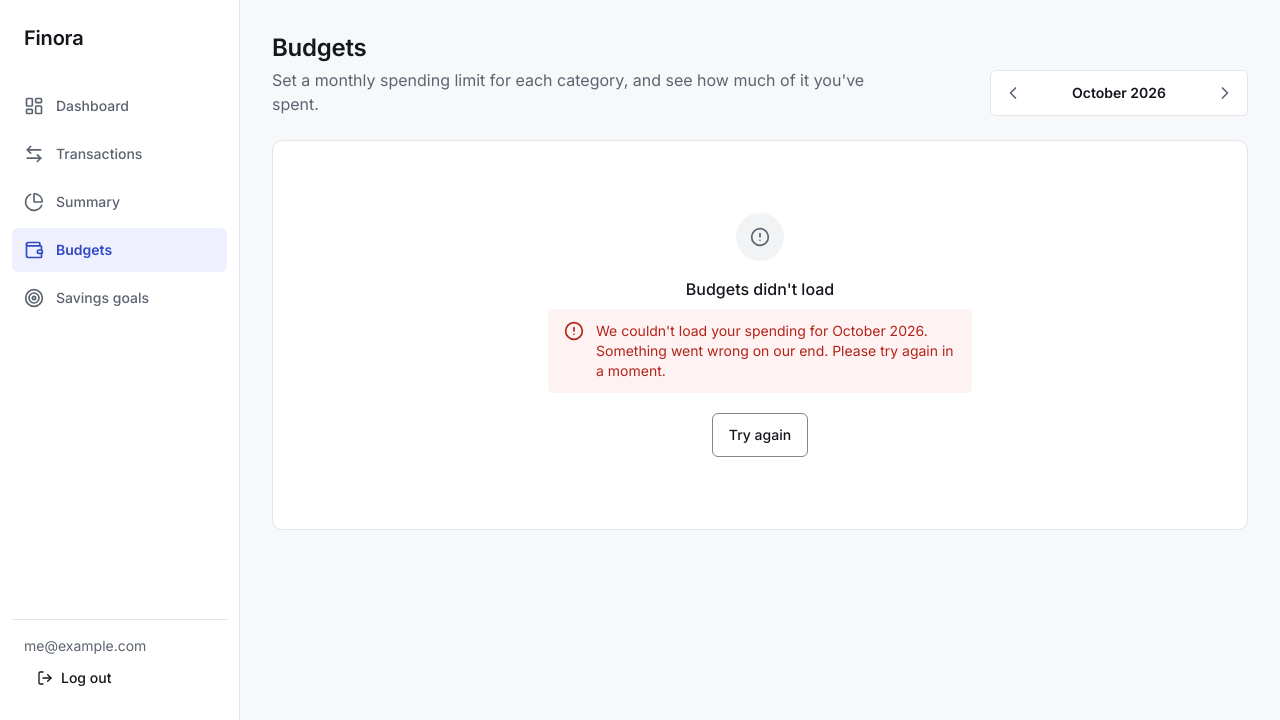
errors › shows an error with Try again when the figures do not load, and Try again loads them
The image size is (1280, 720).
Expected: the text "We couldn't load your spending for October 2026." is shown, [596,322,954,379]
Step 1. Click the button "Try again" → (760, 435), box [712,413,808,457]
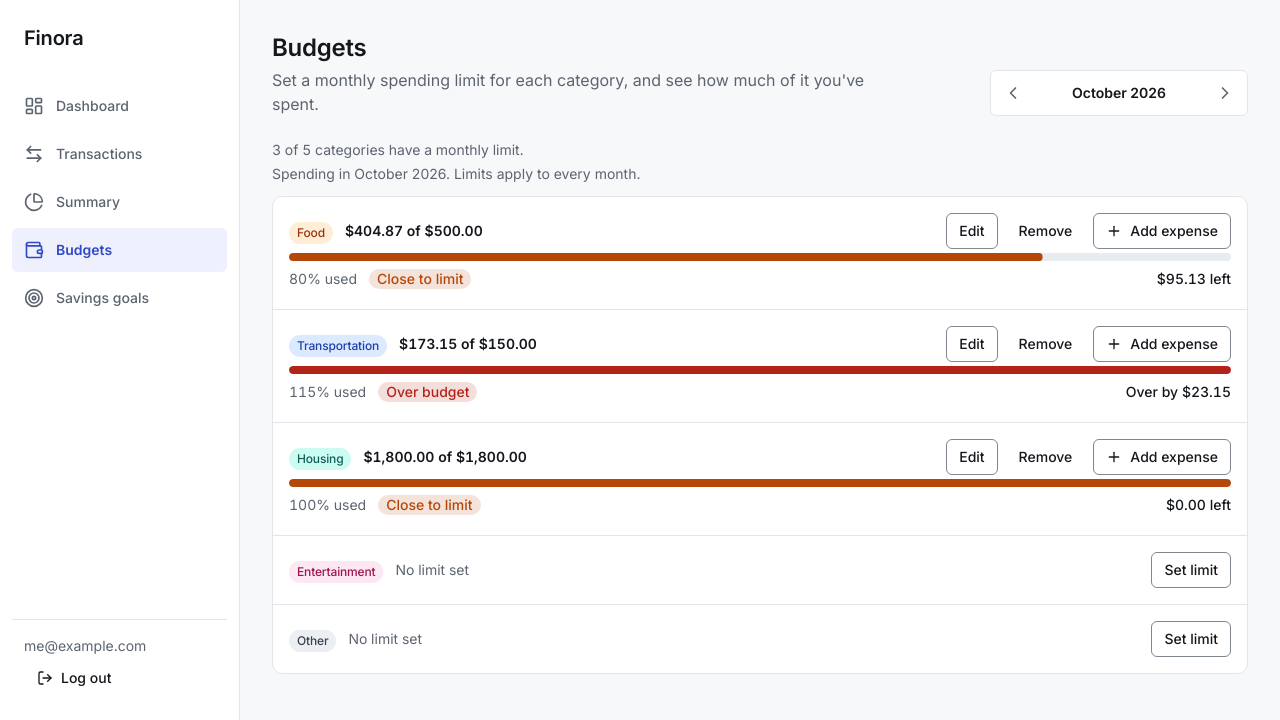
Expected: the progress indicator named "Food spending" is shown, [289,253,1231,261]
